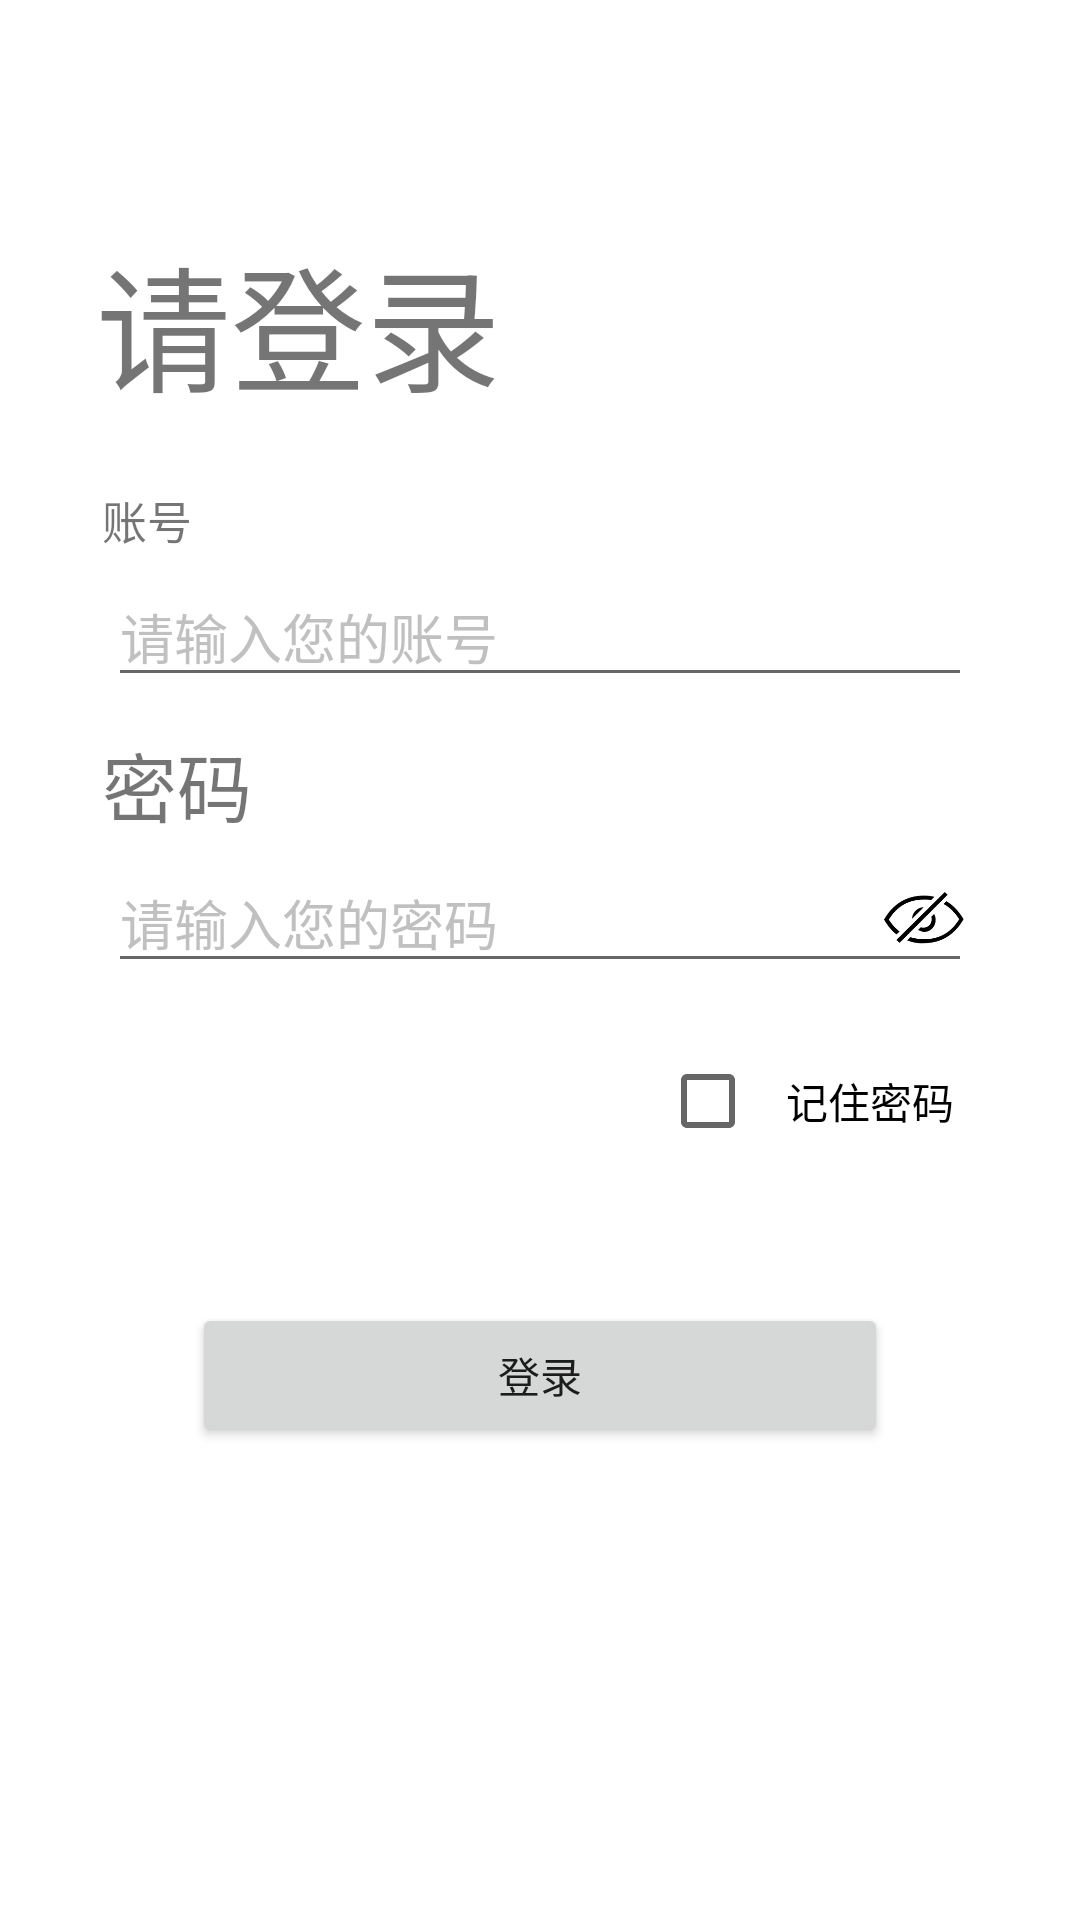

Icon bounding boxes for this 1080 x 1920 phone screenshot, format bbox(x1, y1, x2, y2):
eye close: bbox(884, 892, 964, 944)
